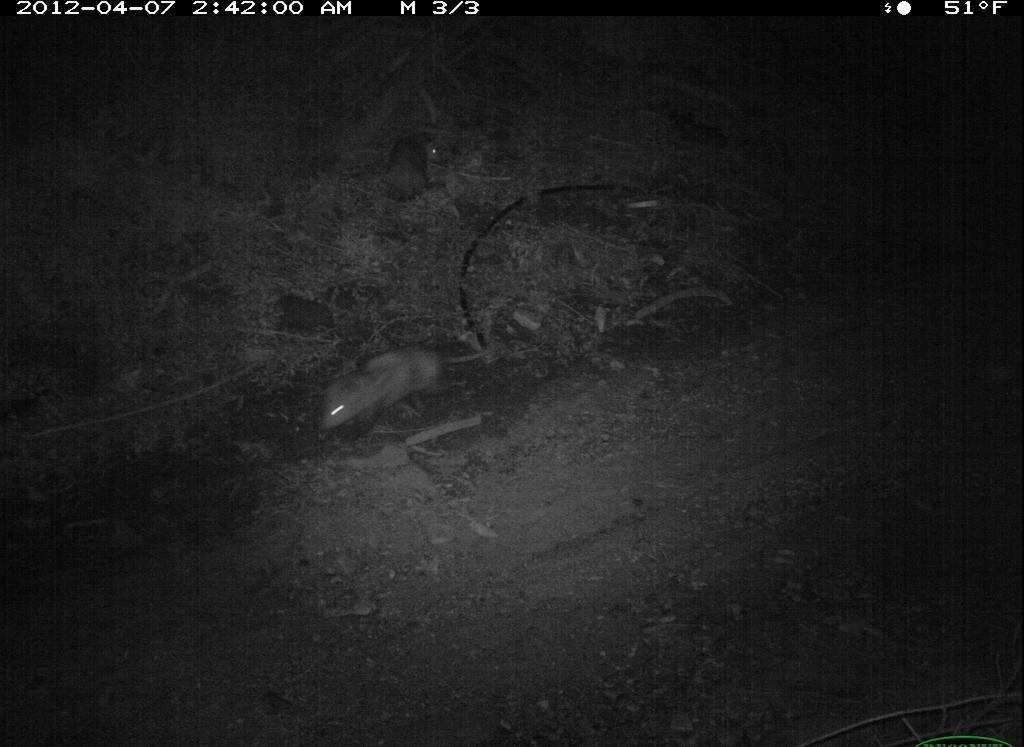opossum: (311, 339, 499, 446), (381, 129, 446, 205)
